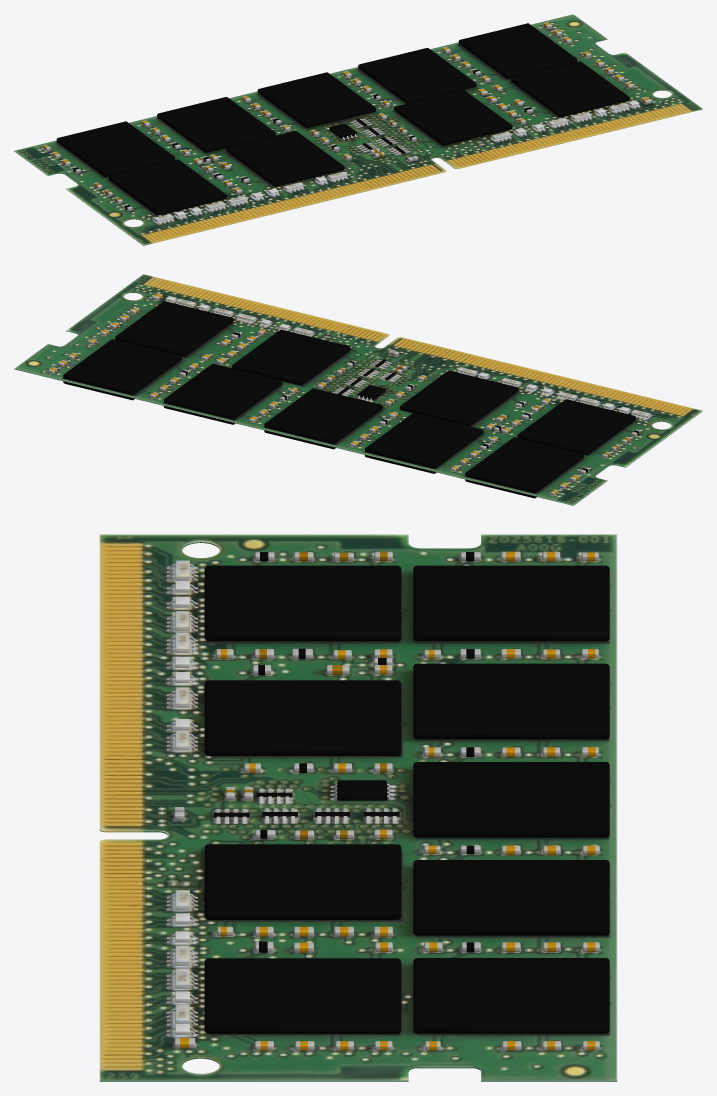
Rendered from ram.glb.
3 renders of one model, top to bottom at view 1: azimuth 30°, elevation 25°; view 2: azimuth 150°, elevation 25°; view 3: azimuth 270°, elevation 25°, orthographic. The views are drawn at different scales.
Parts seen in each view (by area): view 1: Rectangle004.002, ChamferBox094.003, ChamferBox097.003, ChamferBox098.003, ChamferBox099.003, ChamferBox100.003, ChamferBox093.003, ChamferBox096.003, ChamferBox095.003, ChamferBox092.003, ChamferBox001.006; view 2: Rectangle004.002, ChamferBox095.003, ChamferBox092.003, ChamferBox093.003, ChamferBox094.003, ChamferBox096.003, ChamferBox099.003, ChamferBox098.003, ChamferBox100.003, ChamferBox097.003, ChamferBox001.006; view 3: Rectangle004.002, ChamferBox097.003, ChamferBox092.003, ChamferBox093.003, ChamferBox098.003, ChamferBox100.003, ChamferBox099.003, ChamferBox094.003, ChamferBox096.003, ChamferBox095.003, ChamferBox001.006, ChamferBox091.003.
Part boxes in pixels (bbox=[...]): Rectangle004.002: bbox=[14, 14, 702, 245]; ChamferBox094.003: bbox=[257, 72, 376, 128]; ChamferBox097.003: bbox=[108, 159, 227, 215]; ChamferBox098.003: bbox=[226, 131, 344, 186]; ChamferBox099.003: bbox=[394, 90, 512, 145]; ChamferBox100.003: bbox=[511, 61, 629, 117]; ChamferBox093.003: bbox=[157, 97, 275, 152]; ChamferBox096.003: bbox=[458, 23, 577, 79]; ChamferBox095.003: bbox=[358, 48, 476, 103]; ChamferBox092.003: bbox=[56, 121, 174, 177]; ChamferBox001.006: bbox=[153, 103, 629, 222]; Rectangle004.002: bbox=[14, 274, 702, 505]; ChamferBox095.003: bbox=[163, 364, 282, 419]; ChamferBox092.003: bbox=[465, 437, 583, 493]; ChamferBox093.003: bbox=[365, 413, 483, 468]; ChamferBox094.003: bbox=[264, 388, 382, 444]; ChamferBox096.003: bbox=[63, 339, 181, 395]; ChamferBox099.003: bbox=[232, 329, 350, 385]; ChamferBox098.003: bbox=[400, 370, 518, 426]; ChamferBox100.003: bbox=[115, 301, 233, 356]; ChamferBox097.003: bbox=[517, 399, 635, 455]; ChamferBox001.006: bbox=[175, 298, 651, 417]; Rectangle004.002: bbox=[99, 534, 617, 1081]; ChamferBox097.003: bbox=[204, 565, 401, 641]; ChamferBox092.003: bbox=[413, 565, 609, 641]; ChamferBox093.003: bbox=[413, 663, 609, 739]; ChamferBox098.003: bbox=[204, 680, 401, 755]; ChamferBox100.003: bbox=[204, 958, 401, 1033]; ChamferBox099.003: bbox=[204, 844, 401, 919]; ChamferBox094.003: bbox=[413, 762, 609, 837]; ChamferBox096.003: bbox=[413, 958, 609, 1033]; ChamferBox095.003: bbox=[413, 860, 609, 935]; ChamferBox001.006: bbox=[175, 560, 189, 1023]; ChamferBox091.003: bbox=[337, 780, 386, 800].
Size of the model in its own units: 3.39 by 0.0555 by 1.36.
Materials: 131 (2 with a texture image).
